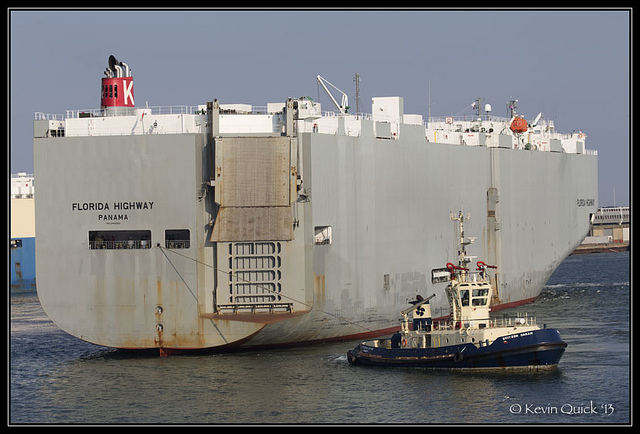PCC: (25, 54, 596, 349)
tug_boat: (344, 208, 564, 375)
